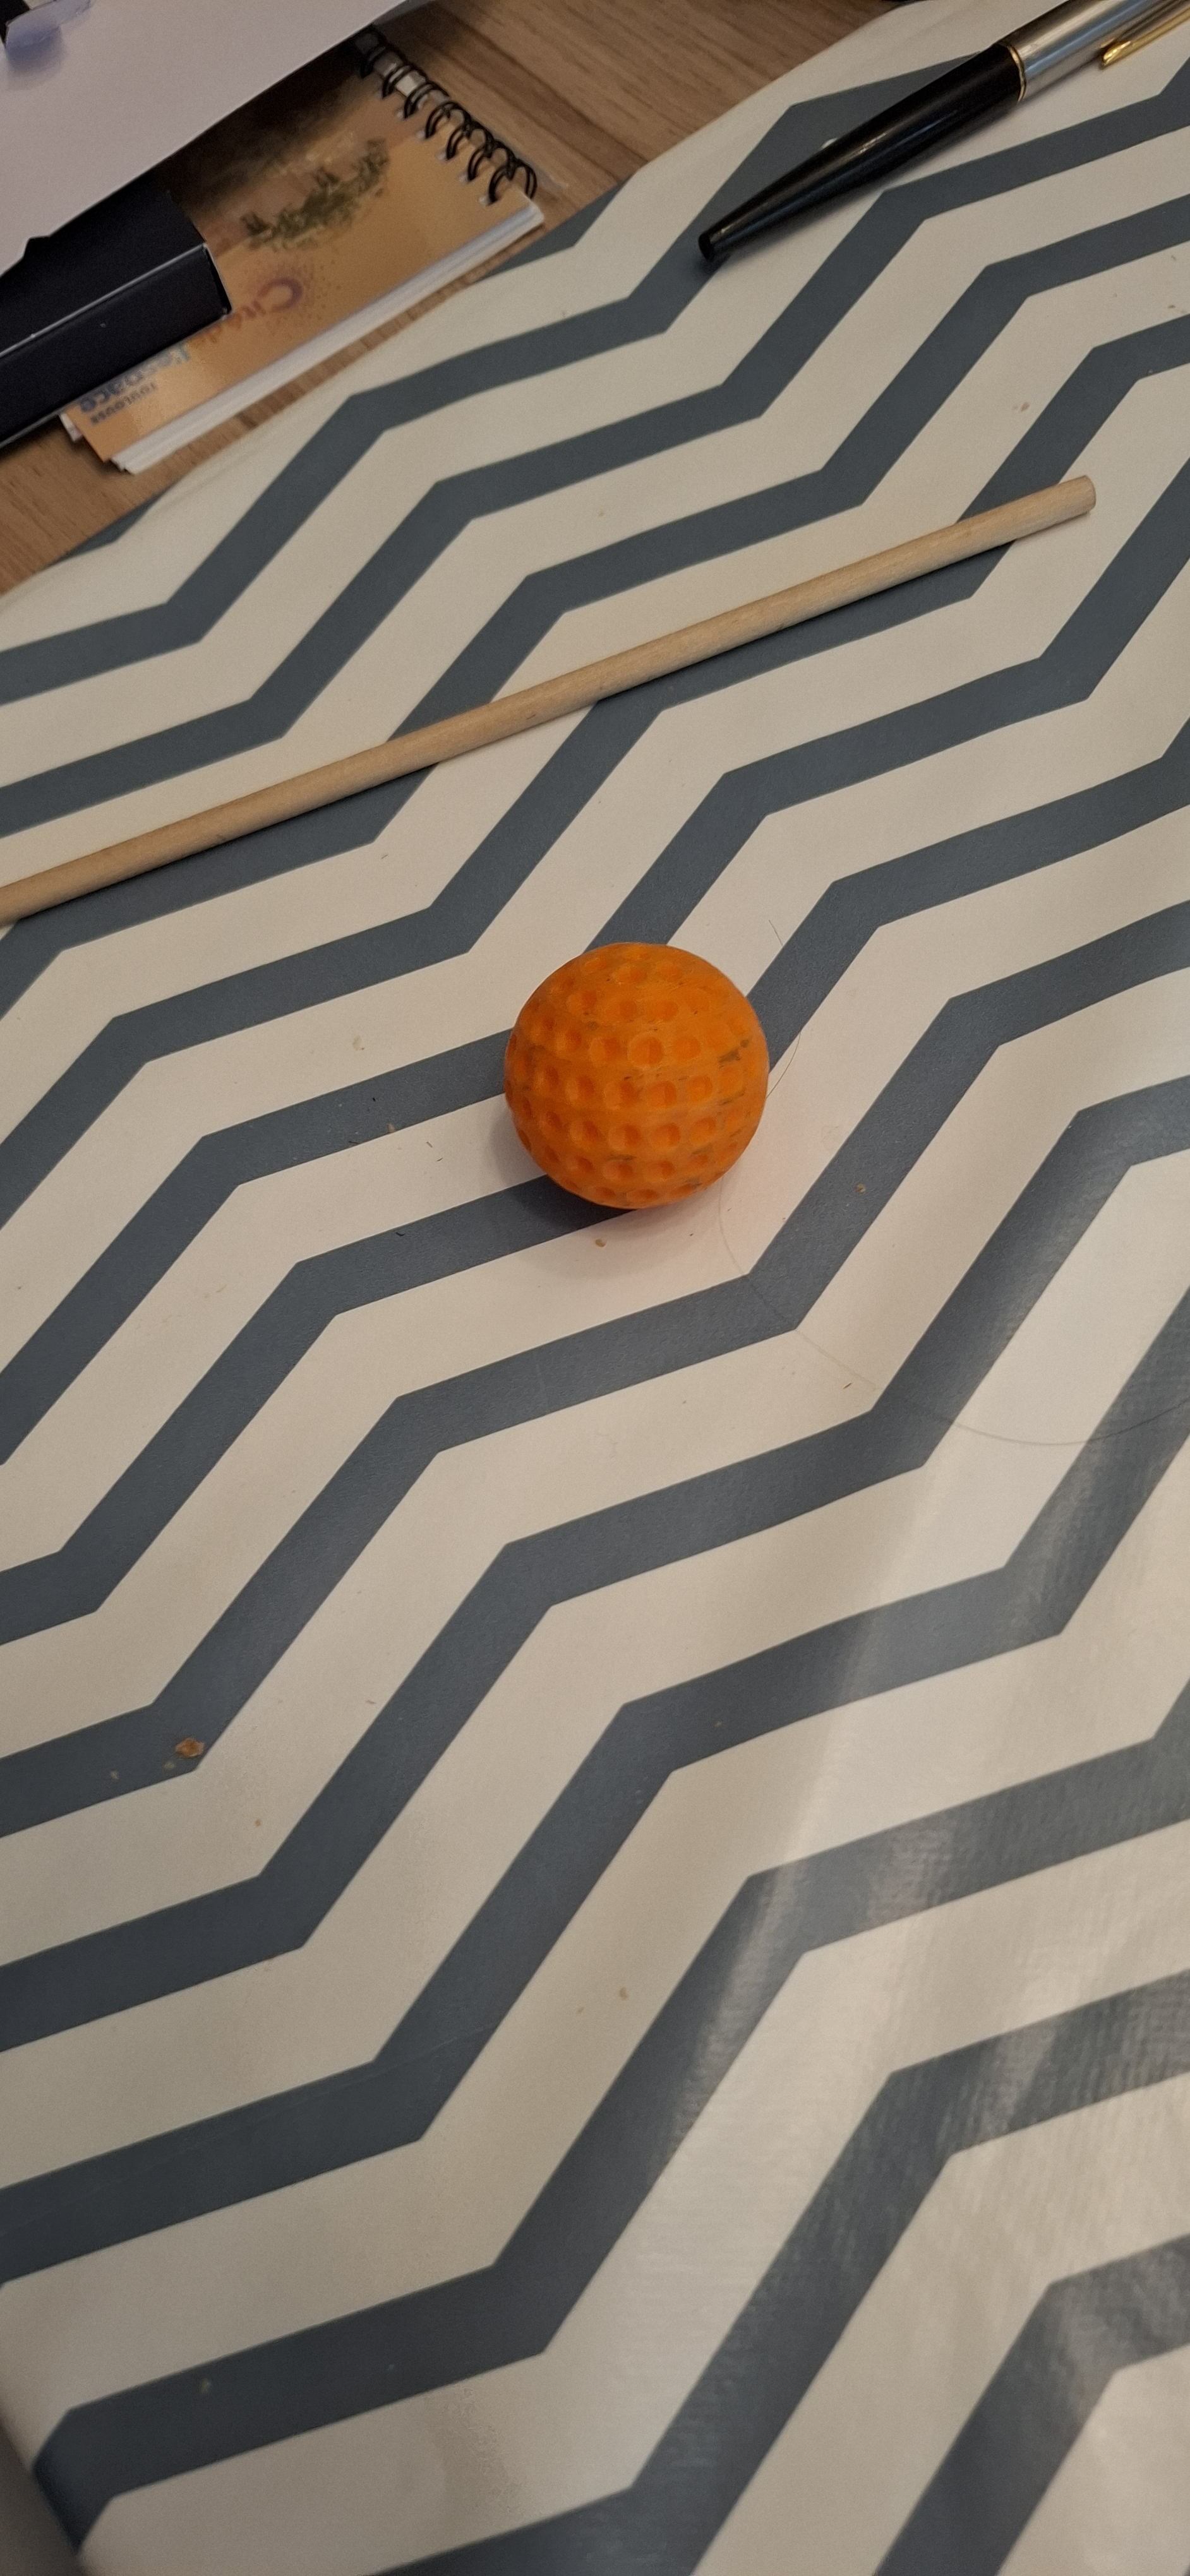ball: (436, 907, 559, 1492)
